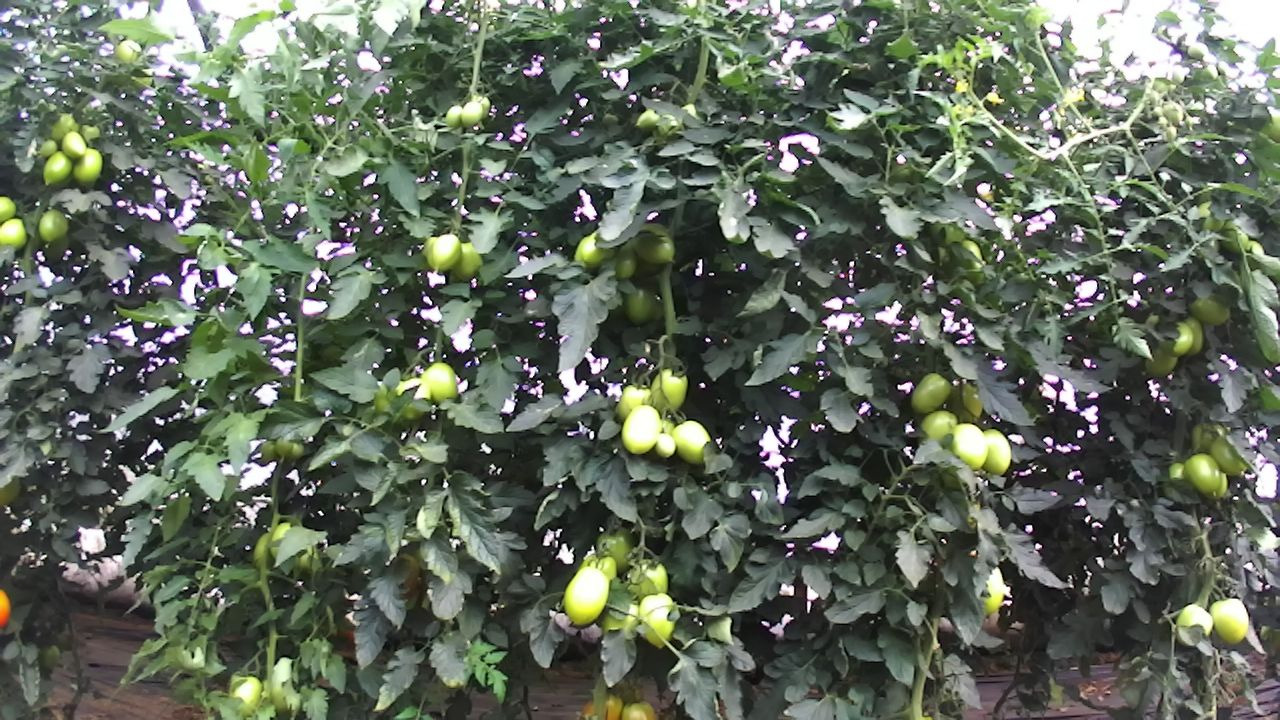tomato: (562, 564, 611, 628), (636, 589, 678, 651), (592, 522, 639, 577), (628, 218, 679, 267), (618, 402, 662, 457), (945, 420, 991, 472), (1206, 596, 1250, 646), (648, 364, 691, 415), (908, 370, 953, 417), (669, 418, 712, 466), (1205, 431, 1247, 479), (1181, 451, 1223, 498), (418, 360, 460, 406), (978, 426, 1014, 479), (619, 281, 658, 329), (915, 406, 961, 444), (613, 377, 652, 421), (1188, 291, 1232, 327), (425, 232, 462, 274), (1174, 600, 1216, 635), (71, 145, 105, 188), (1142, 341, 1179, 379), (41, 149, 74, 187), (36, 205, 69, 243), (0, 216, 30, 255), (60, 129, 88, 161), (458, 99, 483, 129), (653, 430, 677, 460), (0, 192, 17, 227), (274, 434, 295, 461), (445, 103, 463, 127), (38, 137, 58, 158), (257, 439, 276, 461), (289, 439, 307, 461)
